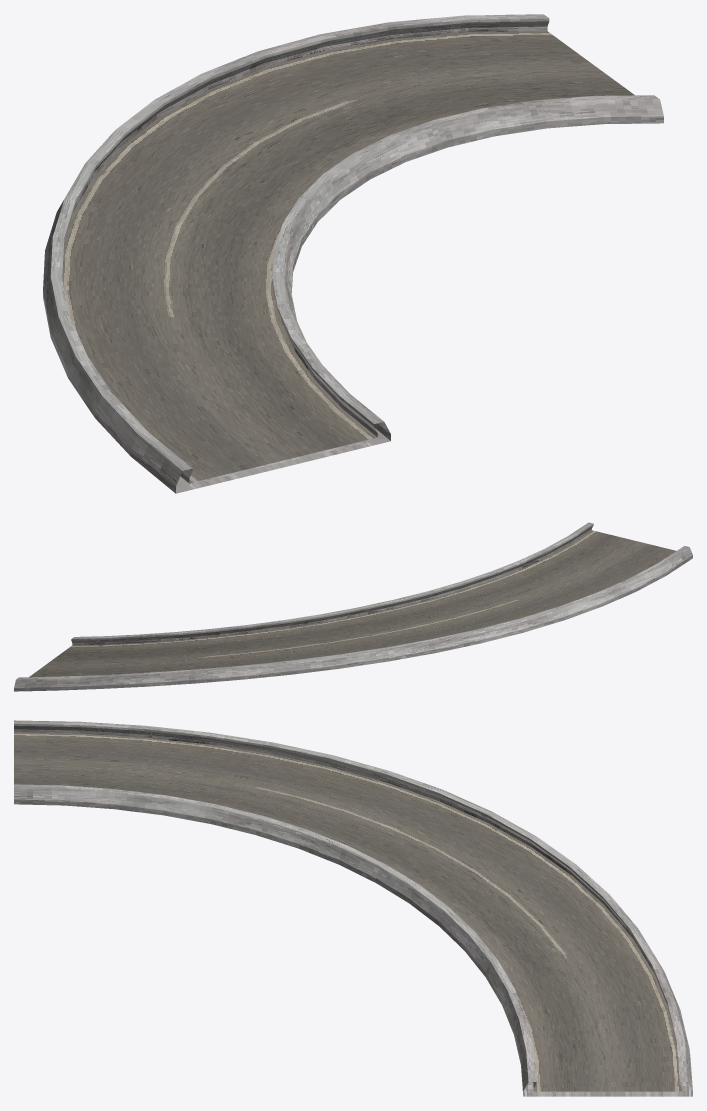
Rendered from road-Turn-Flat-BiSlopeDown-Down2-Right-Size4.glb.
3 renders of one model, top to bottom at view 1: azimuth 30°, elevation 25°; view 2: azimuth 150°, elevation 25°; view 3: azimuth 270°, elevation 25°, orthographic. The views are drawn at different scales.
Parts seen in each view (by area): view 1: road-Turn-Flat-BiSlopeDown-Down2-Right-Size4; view 2: road-Turn-Flat-BiSlopeDown-Down2-Right-Size4; view 3: road-Turn-Flat-BiSlopeDown-Down2-Right-Size4.
Part boxes in pixels (x1,y1,x2,y2): road-Turn-Flat-BiSlopeDown-Down2-Right-Size4: [43, 14, 663, 493]; road-Turn-Flat-BiSlopeDown-Down2-Right-Size4: [14, 522, 692, 691]; road-Turn-Flat-BiSlopeDown-Down2-Right-Size4: [14, 720, 692, 1096].
Bounding box in the file's own units: 4 × 0.5947 × 4.
2 materials, 2 textured.
